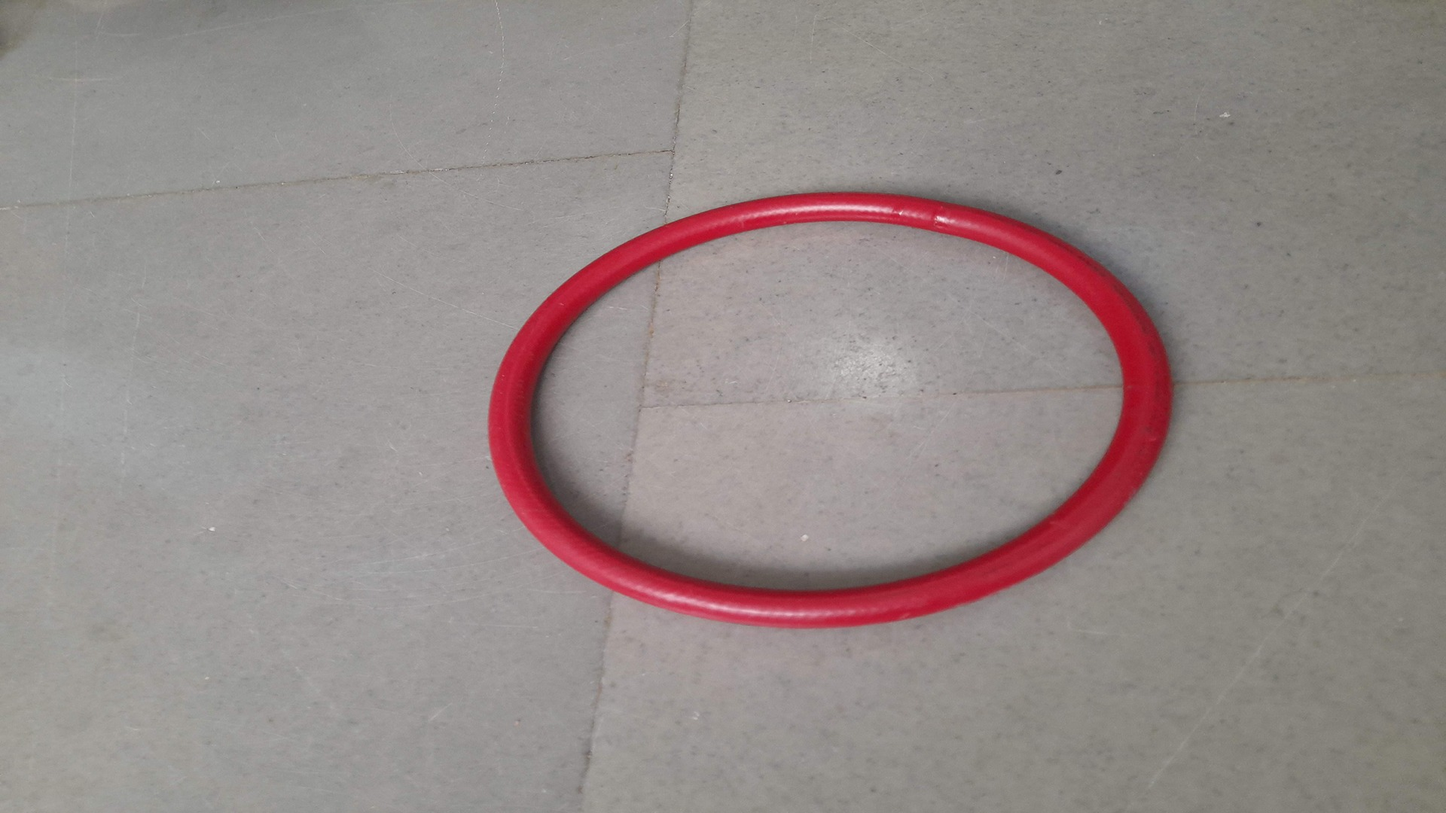Red ring: (488, 191, 1175, 628)
